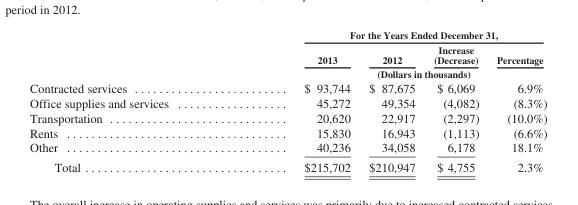table: (29, 28, 546, 173)
table column: (29, 28, 235, 173), (235, 28, 359, 173), (359, 28, 423, 173), (423, 28, 487, 173), (487, 28, 546, 173)
table column header: (29, 28, 546, 80)
table row: (29, 41, 546, 66), (29, 139, 546, 157), (29, 157, 546, 173), (29, 80, 546, 95), (29, 95, 546, 110), (29, 124, 546, 139), (29, 66, 546, 80), (29, 110, 546, 124), (29, 28, 546, 41)
table spanning cell: (235, 66, 546, 80), (235, 28, 546, 41)
